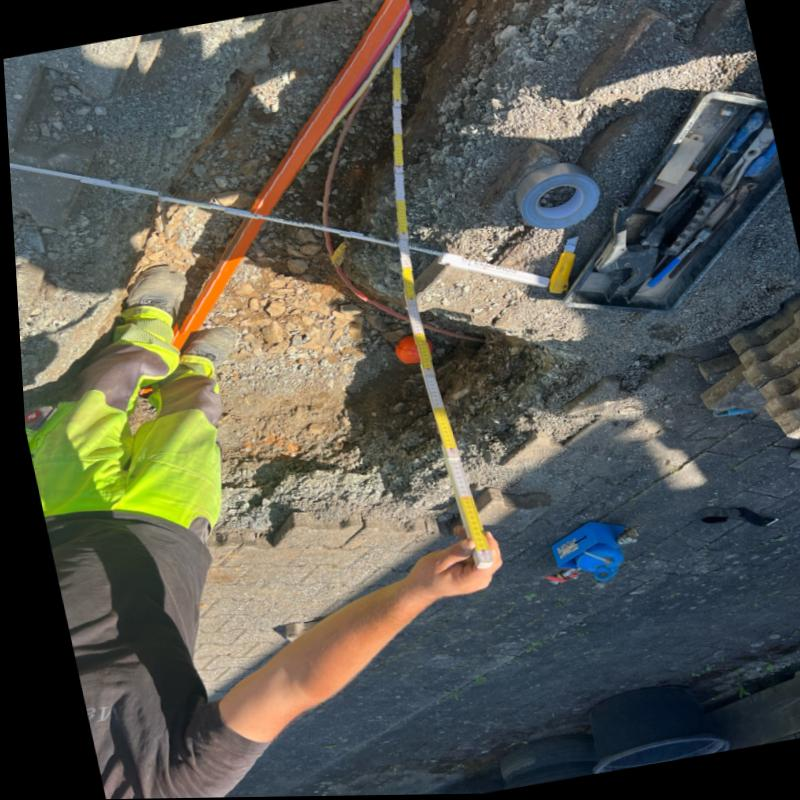Kugelmarker: (393, 338, 425, 363)
Orang-Speednetrohrchen: (173, 0, 409, 334)
